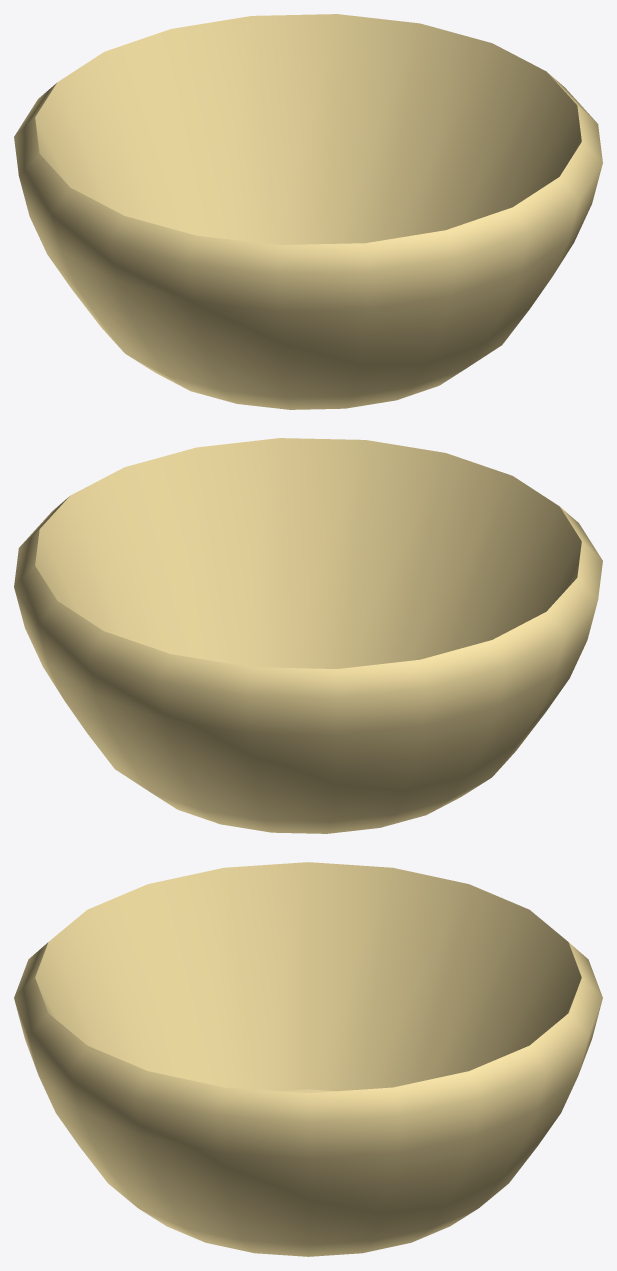
File: bowlGold.fbx
3 renders of one model, top to bottom at view 1: azimuth 30°, elevation 25°; view 2: azimuth 150°, elevation 25°; view 3: azimuth 270°, elevation 25°, orthographic.
Parts seen in each view (by area): view 1: pSphere1; view 2: pSphere1; view 3: pSphere1.
Part boxes in pixels (x1,y1,x2,y2): pSphere1: [14, 14, 602, 409]; pSphere1: [14, 438, 602, 833]; pSphere1: [14, 862, 602, 1256].
Bounding box in the file's own units: 1.98 × 0.8636 × 1.98.
